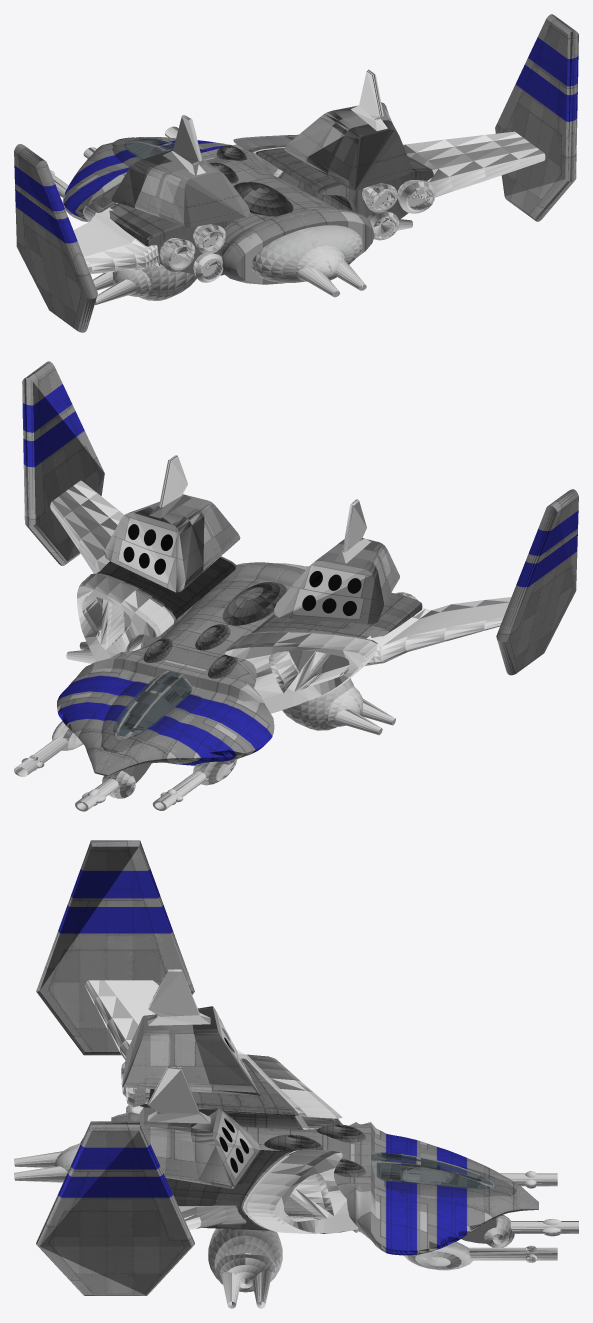
The model's file is broadsword.glb.
The picture shows the model from 3 angles, top to bottom: view 1: azimuth 30°, elevation 25°; view 2: azimuth 150°, elevation 25°; view 3: azimuth 270°, elevation 25°; orthographic projection. The views are drawn at different scales.
Visible parts, largest first — view 1: broadsword; view 2: broadsword; view 3: broadsword.
Boxes of the visible parts, <box> form: broadsword: <box>14,14,578,332</box>; broadsword: <box>14,361,578,811</box>; broadsword: <box>14,840,578,1308</box>.
Size of the model in its own units: 115 by 48.85 by 95.74.
Materials: 13 (8 with a texture image).
